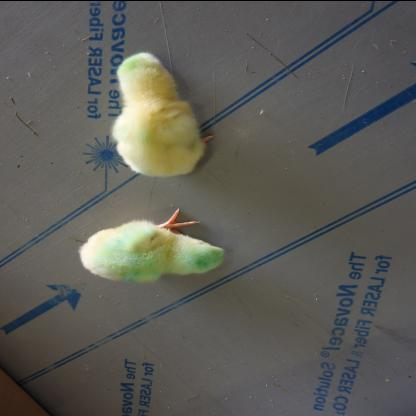Chicken: (115, 47, 206, 176), (78, 218, 224, 280)
